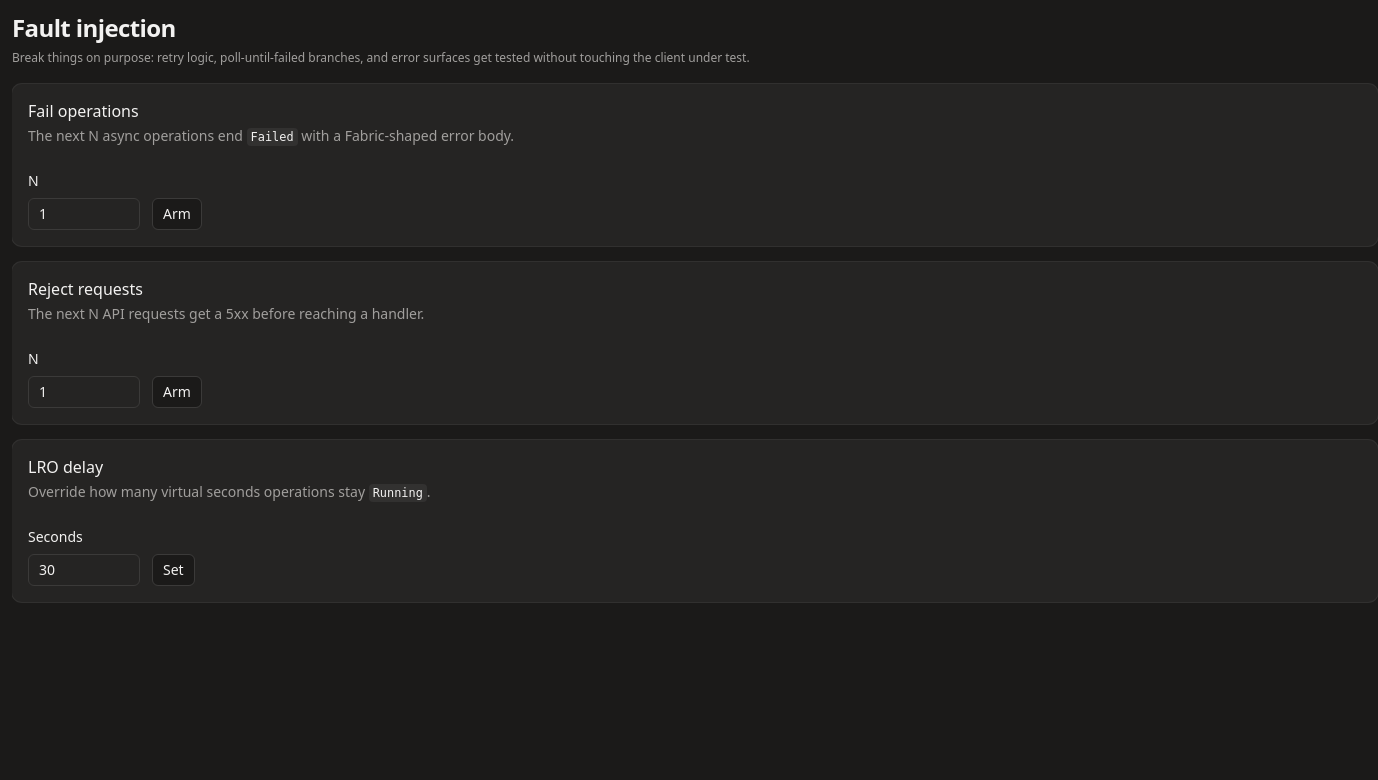
Scenario: Faults › surfaces rejection errors
The image size is (1378, 780).
Click the button "Set": (173, 570) [152,554,195,586]
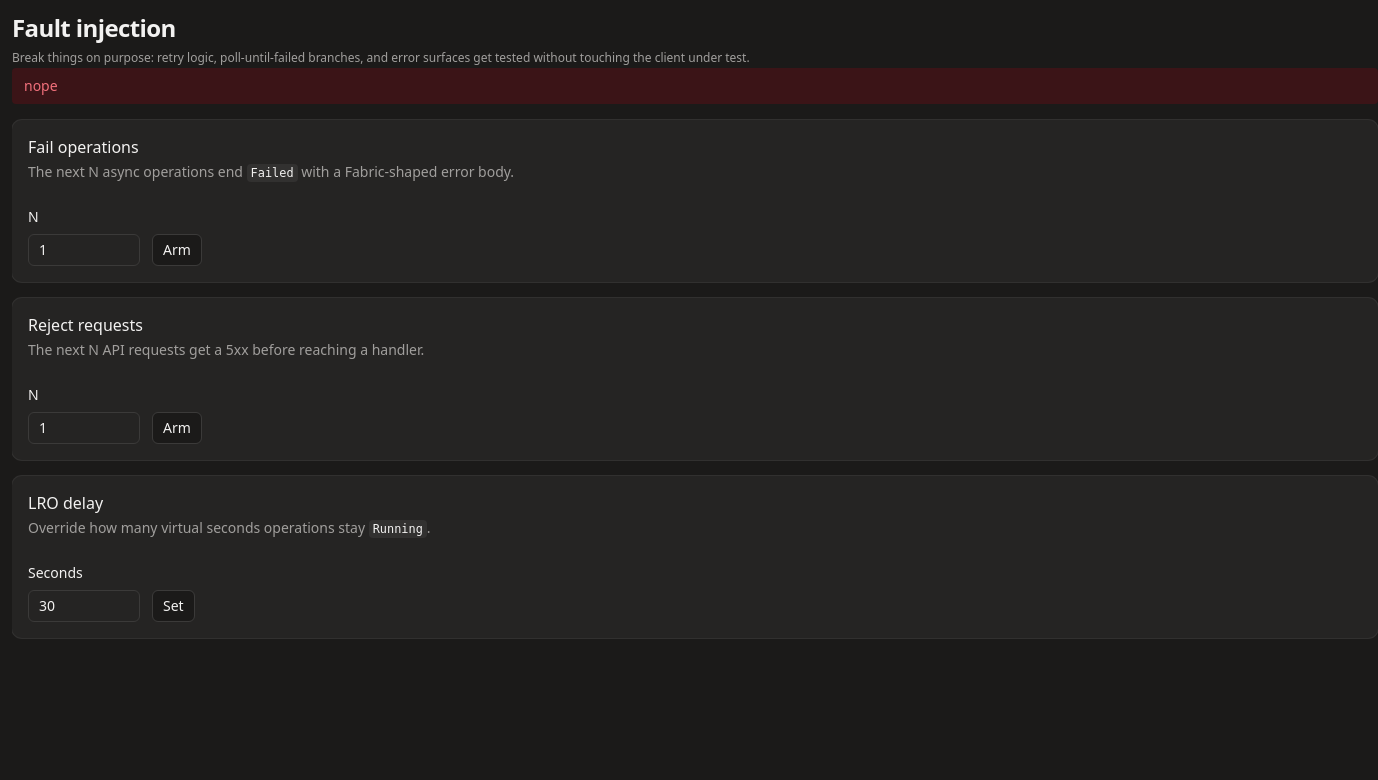
Check: the text "nope" is shown, box [12,68,1377,104]
